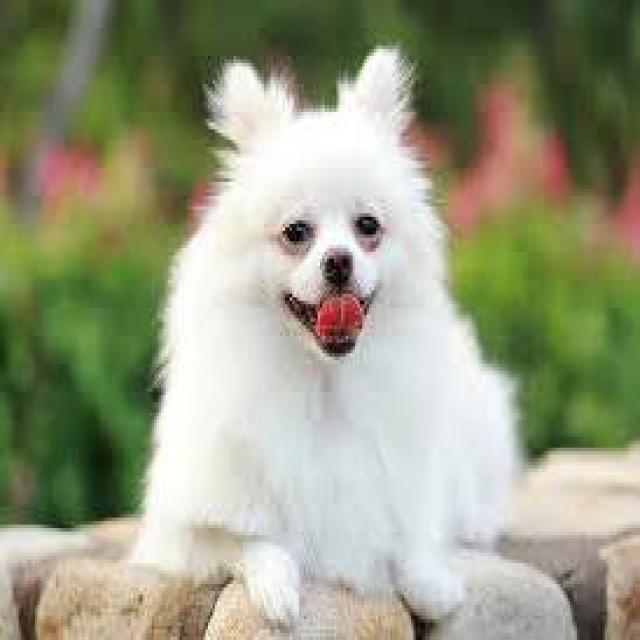happy: (189, 34, 457, 402)
